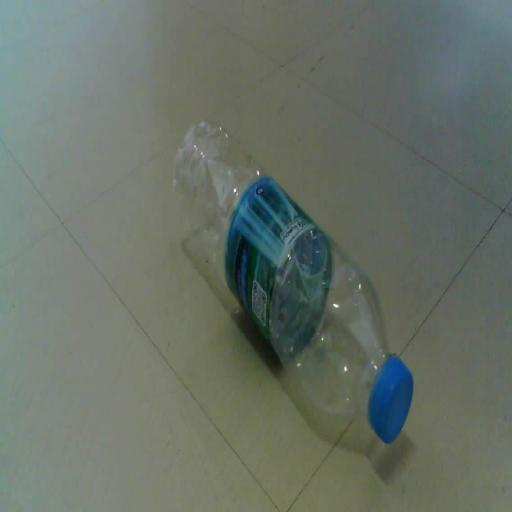bottle: (145, 102, 431, 461)
